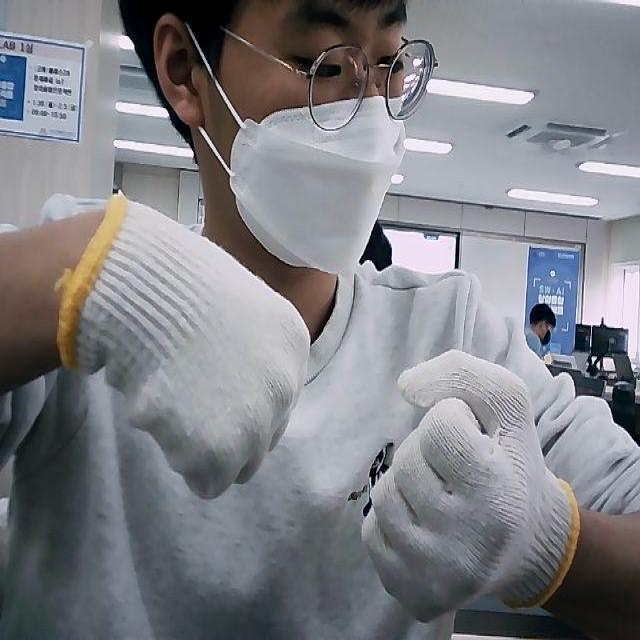gloves: (58, 195, 310, 502), (358, 348, 578, 621)
